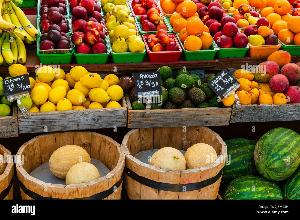apple: (206, 4, 246, 50)
avocado: (130, 66, 224, 110)
banana: (0, 0, 34, 62)
lemon: (10, 64, 122, 116)
mango: (255, 52, 300, 108)
melon: (17, 132, 113, 196), (133, 128, 230, 186)
orange: (166, 0, 212, 52), (266, 0, 300, 50)
peach: (133, 1, 177, 55), (70, 1, 106, 54)
pear: (105, 0, 141, 58)
plum: (36, 0, 70, 58)
watermelon: (226, 128, 300, 200)
